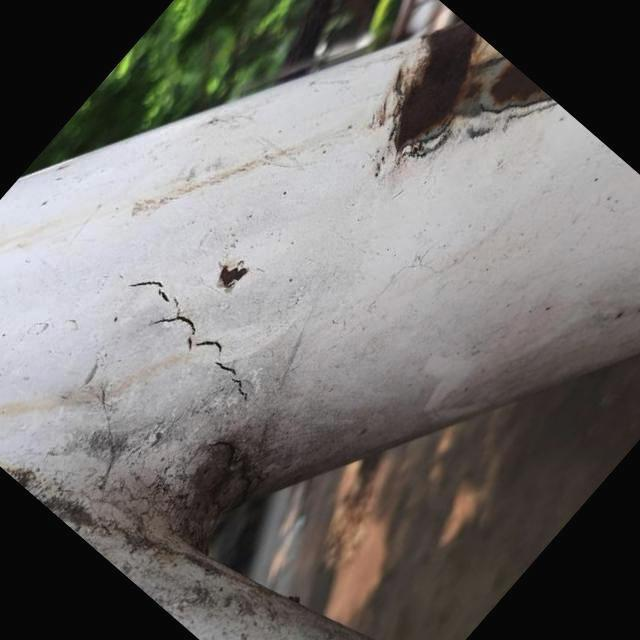defect: (124, 276, 257, 403)
